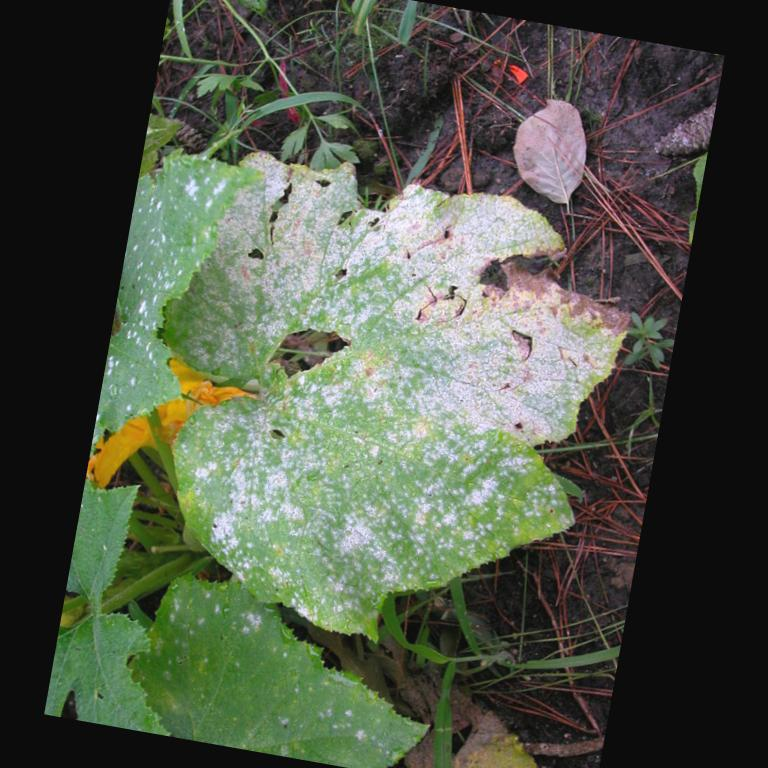powdery-mildew: (202, 404, 366, 552), (371, 398, 512, 562), (250, 209, 386, 339)
